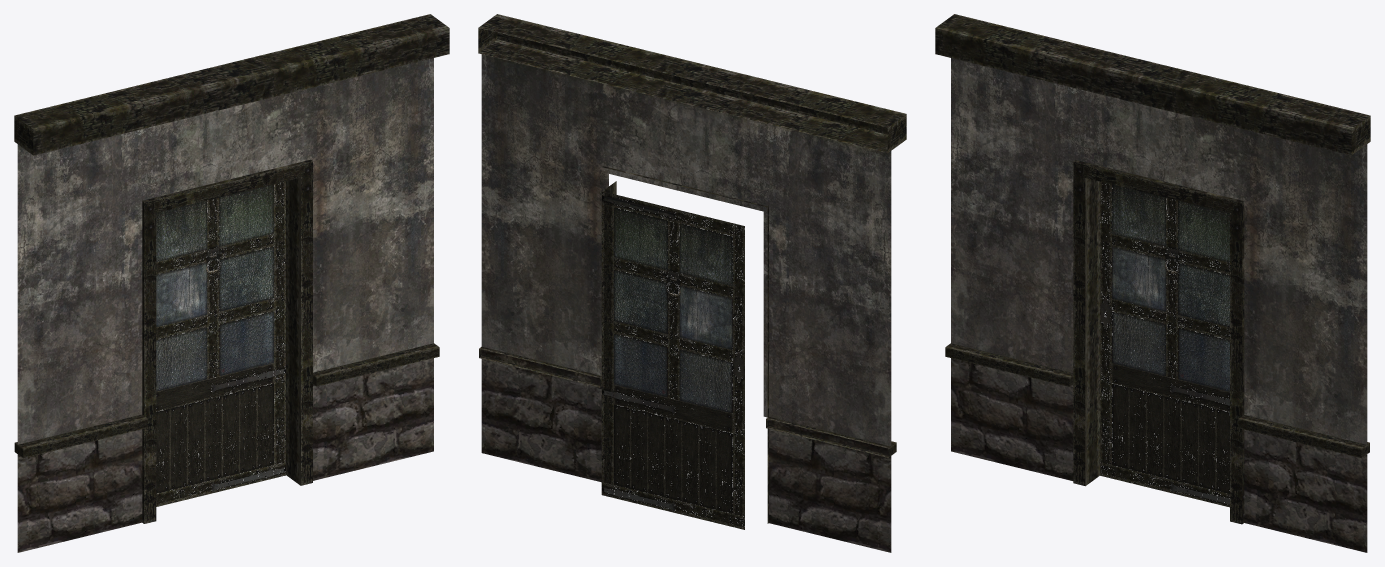
Rendered from pubwalldoor.DAE.
3 renders of one model, left to right at view 1: azimuth 30°, elevation 25°; view 2: azimuth 150°, elevation 25°; view 3: azimuth 330°, elevation 25°, orthographic.
Visible parts, largest first — view 1: Object049, Object050, Object009, Object007; view 2: Object049, Object009, Object007, Object050; view 3: Object049, Object050, Object009, Object007.
Boxes of the visible parts, bbox=[...] form: Object049: bbox=[17, 58, 433, 444]; Object050: bbox=[14, 14, 449, 523]; Object009: bbox=[156, 181, 285, 506]; Object007: bbox=[17, 358, 433, 552]; Object049: bbox=[481, 51, 891, 446]; Object009: bbox=[602, 191, 744, 529]; Object007: bbox=[481, 349, 891, 552]; Object050: bbox=[478, 14, 906, 523]; Object049: bbox=[951, 58, 1367, 444]; Object050: bbox=[935, 14, 1370, 524]; Object009: bbox=[1100, 181, 1229, 507]; Object007: bbox=[951, 358, 1367, 552].
Bounding box in the file's own units: 4.01 × 4 × 0.4835.
